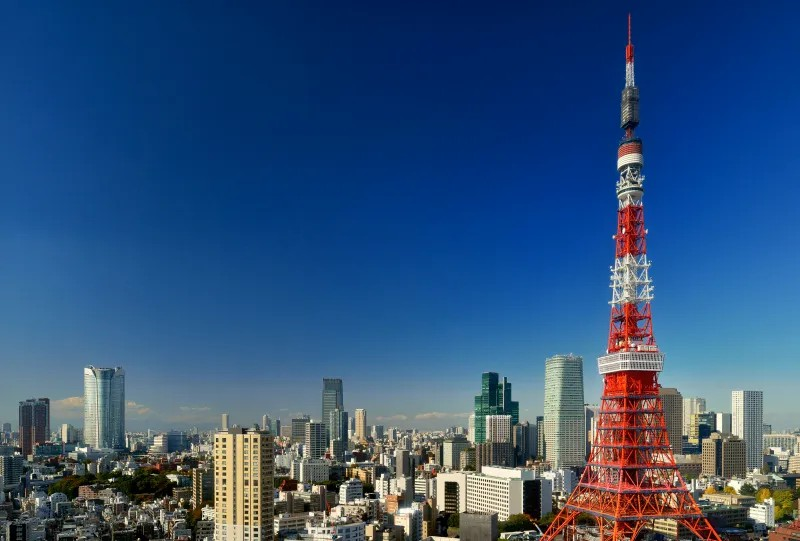Tokyo: (540, 10, 719, 539)
